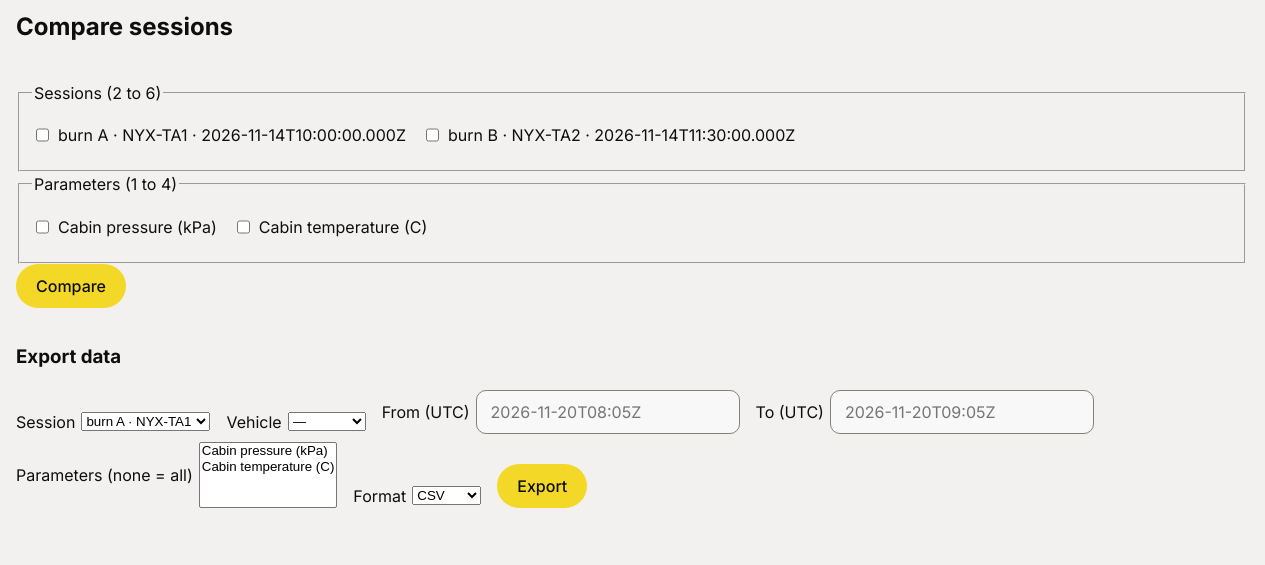
Test: export: 429 EXPORT_BUSY shows the Retry-After
The width and height of the screenshot is (1265, 565).
Select "burn A · NYX-TA1" in the dropdown labelled "Session" at (146, 422), box [81,412,210,431]
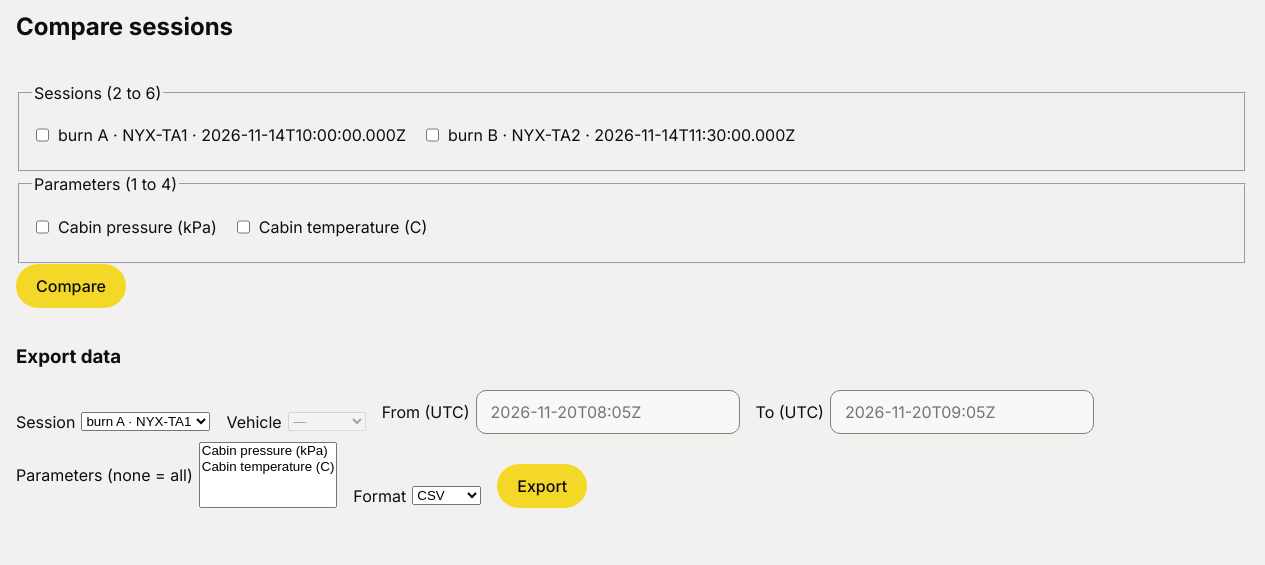
Click the button "Export" at (542, 486), box [497,464,587,508]
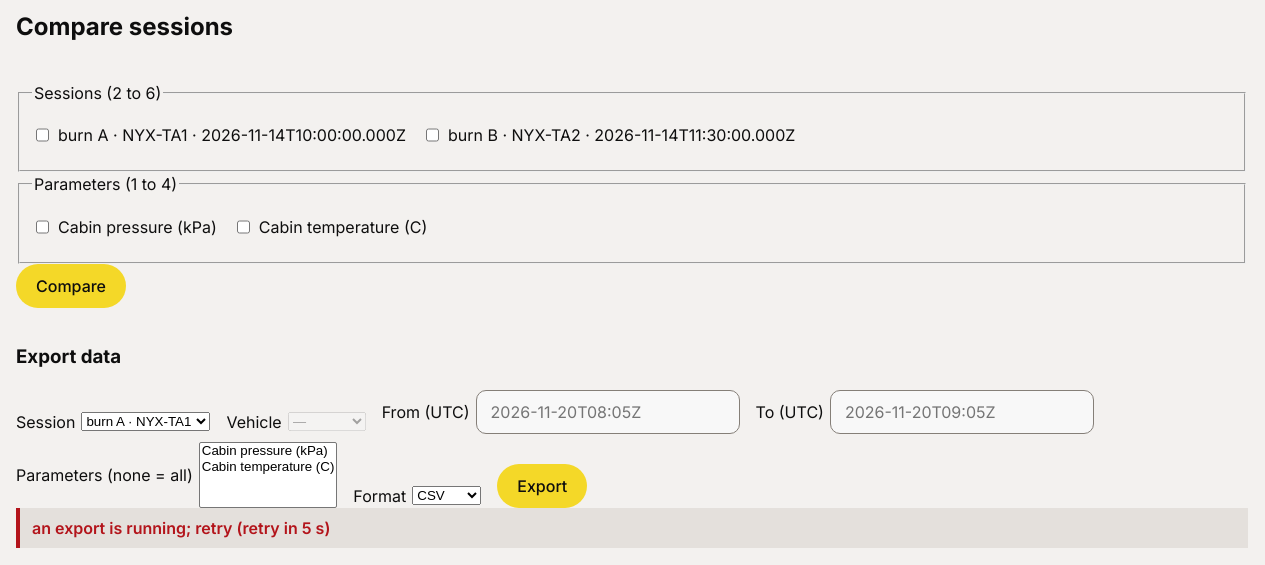
Expected: the message "an export is running; retry (retry in 5 s)" is shown, [16,508,1248,548]
